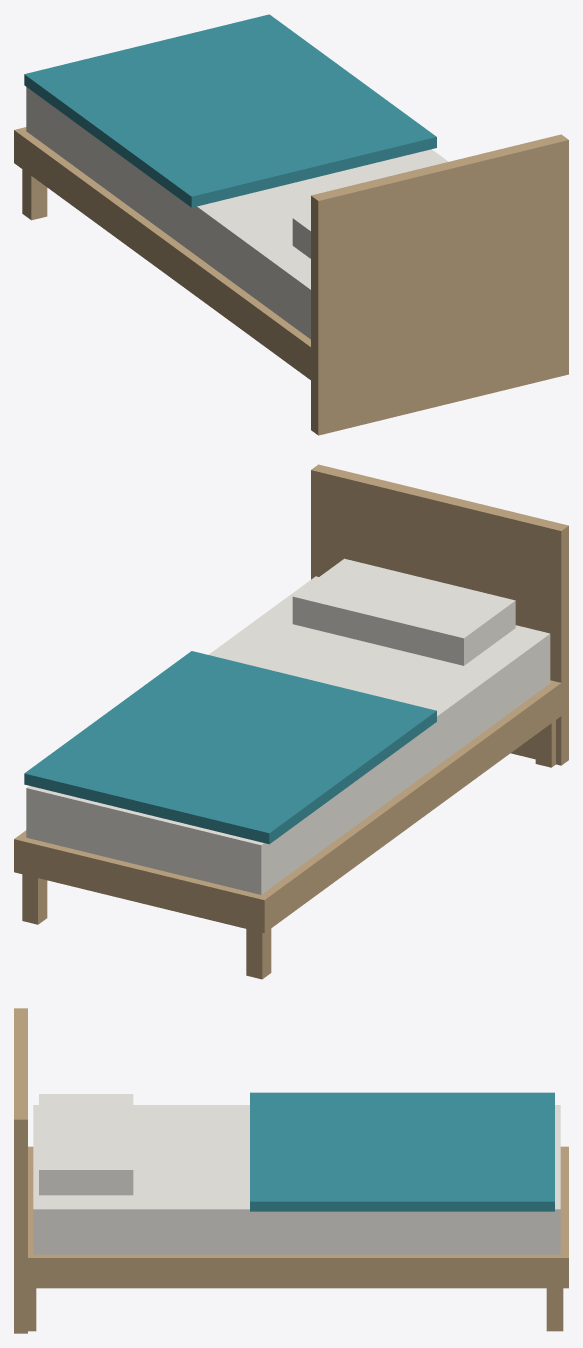
File: bb_set_bed.fbx
The picture shows the model from 3 angles, top to bottom: view 1: azimuth 30°, elevation 25°; view 2: azimuth 150°, elevation 25°; view 3: azimuth 270°, elevation 25°; orthographic projection. The views are drawn at different scales.
Visible parts, largest first — view 1: bb_set_bed; view 2: bb_set_bed; view 3: bb_set_bed.
Boxes of the visible parts, box(x1,y1,x2,y2) form: bb_set_bed: box(14, 14, 568, 435); bb_set_bed: box(14, 464, 568, 979); bb_set_bed: box(14, 1008, 568, 1333).
Bounding box in the file's own units: 0.95 × 0.85 × 2.
